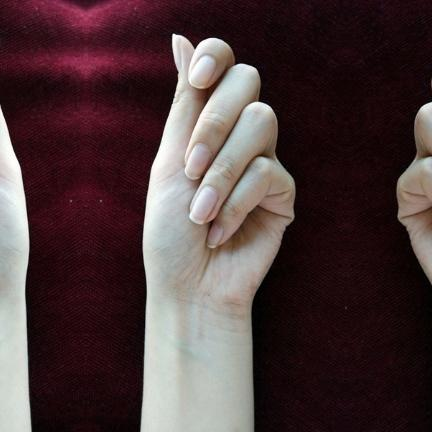Nail: (189, 185, 219, 225), (184, 142, 211, 181), (187, 54, 215, 89), (205, 223, 223, 249), (171, 34, 181, 71)
